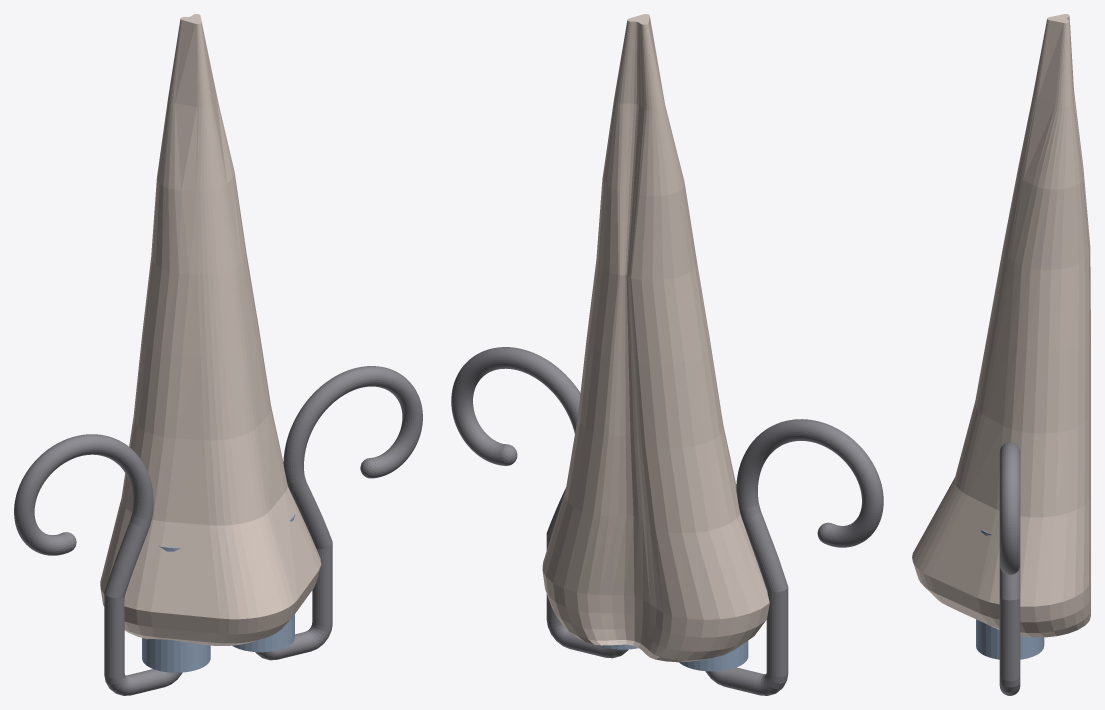
File: candidate_balanced.glb
3 renders of one model, left to right at view 1: azimuth 30°, elevation 25°; view 2: azimuth 150°, elevation 25°; view 3: azimuth 270°, elevation 25°, orthographic. The views are drawn at different scales.
Visible parts, largest first — view 1: body, frame_left, frame_right, plug_left, plug_right; view 2: body, frame_left, frame_right, plug_left; view 3: body, frame_right, plug_right.
Boxes of the visible parts, <box> form: body: <box>100,14,321,645</box>; frame_left: <box>14,434,182,695</box>; frame_right: <box>255,366,422,660</box>; plug_left: <box>142,546,210,672</box>; plug_right: <box>232,513,294,652</box>; body: <box>542,14,769,662</box>; frame_left: <box>705,419,883,695</box>; frame_right: <box>451,347,628,658</box>; plug_left: <box>679,641,748,671</box>; body: <box>912,14,1090,637</box>; frame_right: <box>999,442,1020,695</box>; plug_right: <box>976,529,1044,659</box>.
Bounding box in the file's own units: 40.95 × 61.2 × 15.7.
